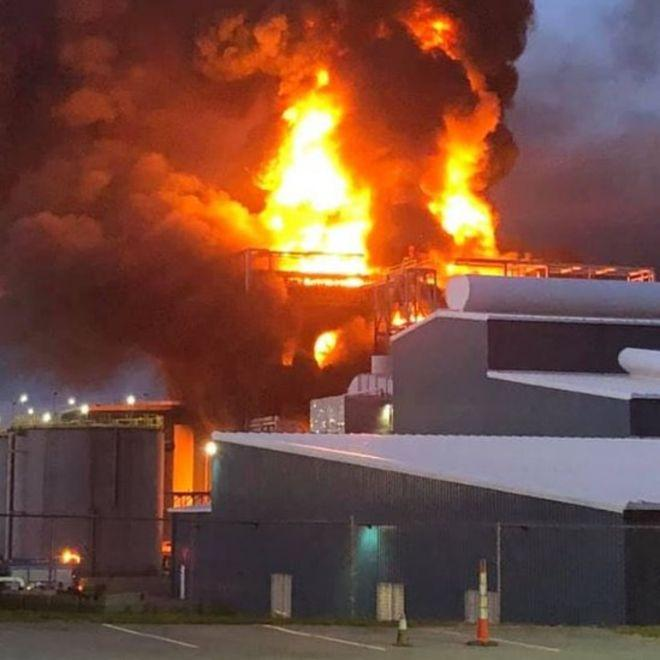Fire: (249, 106, 373, 295), (425, 146, 512, 283), (301, 325, 345, 381)
